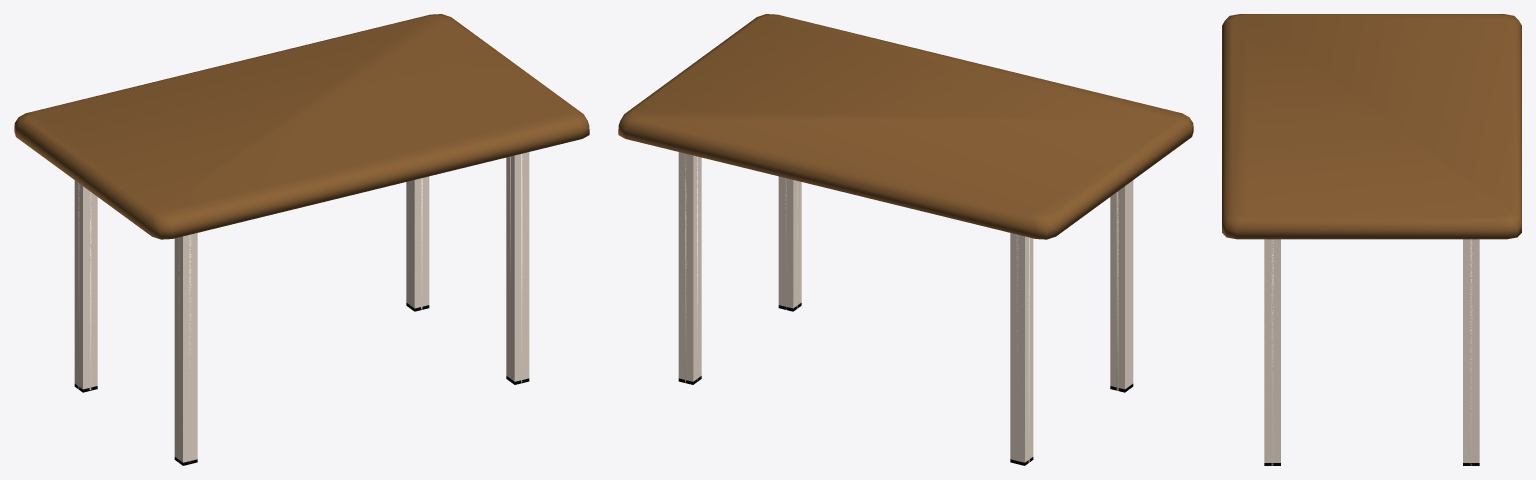
The model's file is Table.fbx.
3 renders of one model, left to right at view 1: azimuth 30°, elevation 25°; view 2: azimuth 150°, elevation 25°; view 3: azimuth 270°, elevation 25°, orthographic.
Parts seen in each view (by area): view 1: Taso, Jalka1, Jalka2; view 2: Taso, Jalka1, Jalka2; view 3: Taso, Jalka1, Jalka2.
Part boxes in pixels (x1=…): Taso: x1=14, y1=14, x2=589, y2=239; Jalka1: x1=74, y1=152, x2=529, y2=465; Jalka2: x1=78, y1=154, x2=522, y2=462; Taso: x1=618, y1=14, x2=1193, y2=239; Jalka1: x1=678, y1=152, x2=1133, y2=465; Jalka2: x1=685, y1=155, x2=1118, y2=462; Taso: x1=1222, y1=14, x2=1521, y2=239; Jalka1: x1=1264, y1=239, x2=1479, y2=465; Jalka2: x1=1271, y1=239, x2=1472, y2=465.
Size of the model in its own units: 125 by 73.57 by 75.
